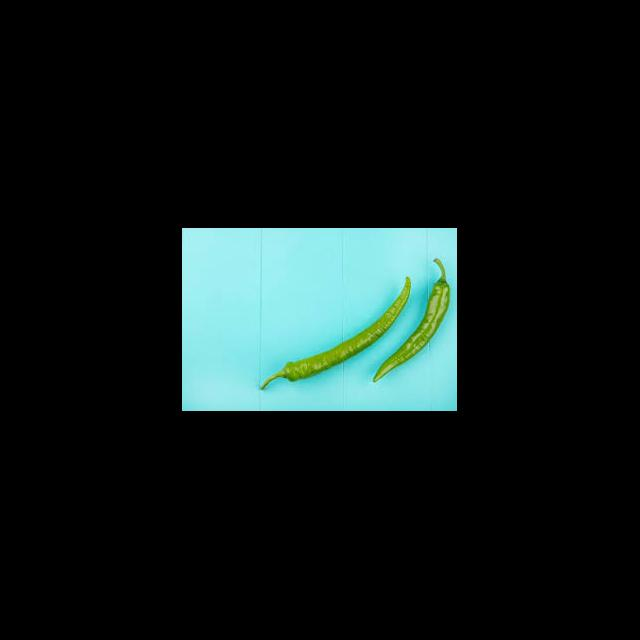chili_pepper: (273, 284, 411, 380), (374, 278, 454, 379)
